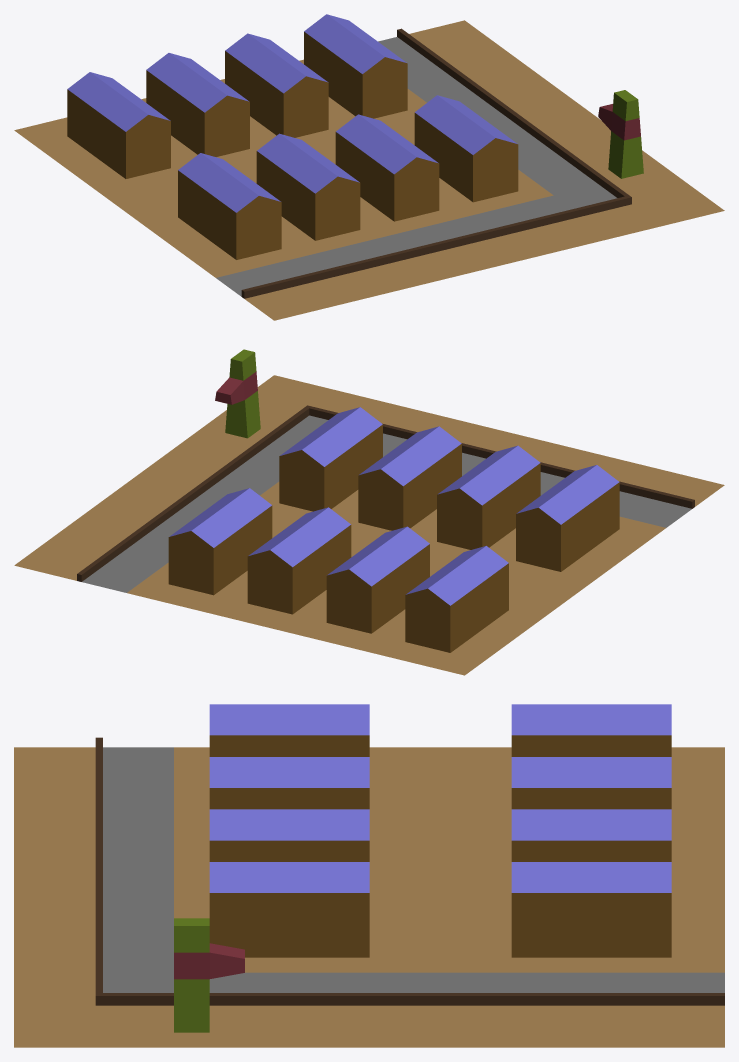
The model's file is barracks.glb.
3 views of the same model, one above another, from view 1: azimuth 30°, elevation 25°; view 2: azimuth 150°, elevation 25°; view 3: azimuth 270°, elevation 25° (orthographic). The views are drawn at different scales.
Visible parts, largest first — view 1: Cube; view 2: Cube; view 3: Cube.
Part boxes in pixels (box(x1,y1,x2,y2)): Cube: box(14, 14, 724, 320); Cube: box(14, 349, 724, 675); Cube: box(14, 704, 724, 1047).
Bounding box in the file's own units: 0.1 × 0.016 × 0.1.
